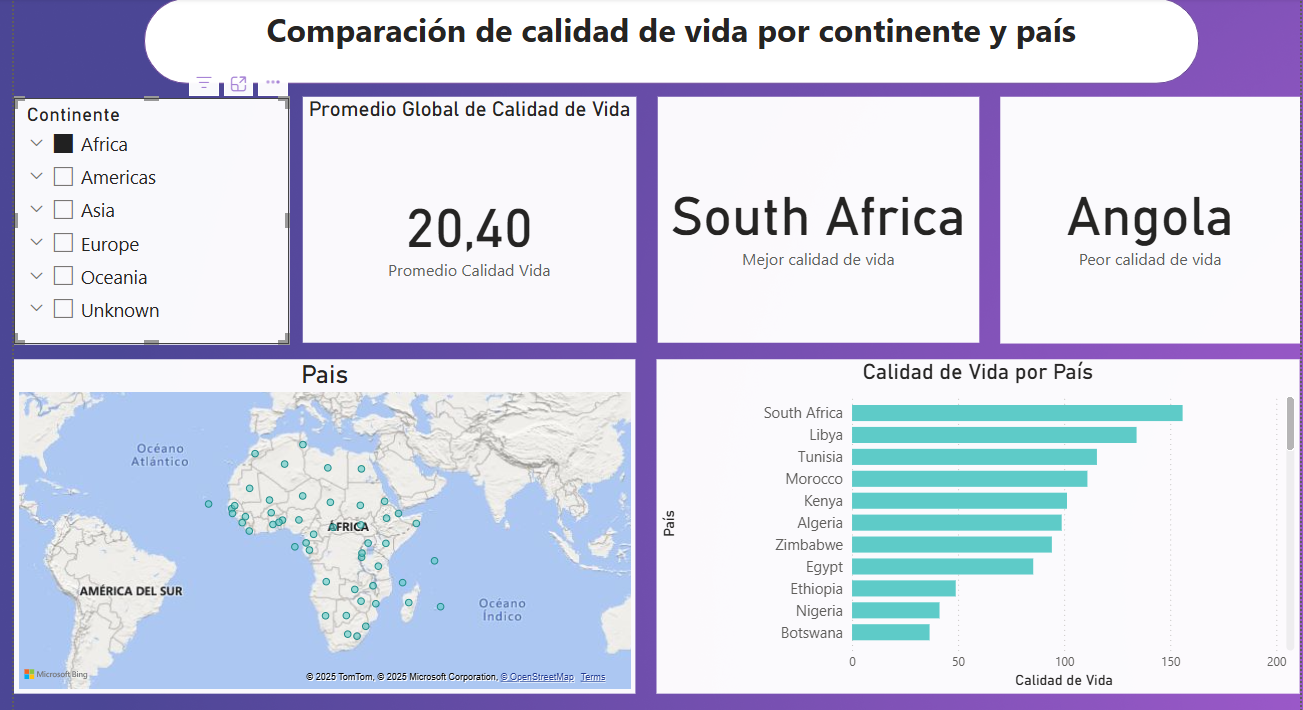

What the dashboard file says about the page in this screenshot:
{"tool":"powerbi","page":{"name":"Página 1","canvas":[1280,720],"ordinal":0},"visuals":[{"type":"shape","box":[129.5,0,1050.1,85.4],"z":0},{"type":"slicer","fields":{"Values":["qualitylife.Continente","qualitylife.country"]},"box":[0,99.2,274.2,245.3],"z":1000},{"type":"map","fields":{"Category":["qualitylife.country"]},"box":[0,360,618.6,332.9],"z":2000},{"type":"textbox","box":[172.3,5.5,964.7,74.4],"z":3000},{"type":"card","title":"Promedio Global de Calidad de Vida","fields":{"Values":["qualitylife.Promedio Calidad Vida"]},"box":[287.8,98.4,331.8,245.2],"z":4000},{"type":"barChart","fields":{"Category":["qualitylife.country"],"Y":["Sum(qualitylife.Quality of Life Value)"]},"box":[640,360,640,332.9],"z":5000},{"type":"card","fields":{"Values":["qualitylife.Mejor Pais"]},"box":[640.1,98.4,320.1,245.2],"z":6000},{"type":"card","fields":{"Values":["qualitylife.Peor_Pais"]},"box":[981.4,98.6,298.6,245.7],"z":7000}]}

Visuals, with their boxes in screenshot pixels (x1, y1, x2, y2):
shape: (x1=141, y1=0, x2=1198, y2=79)
slicer - qualitylife.Continente x qualitylife.country: (x1=10, y1=93, x2=286, y2=340)
map - qualitylife.country: (x1=10, y1=356, x2=633, y2=691)
textbox: (x1=184, y1=0, x2=1155, y2=74)
"Promedio Global de Calidad de Vida" card: (x1=300, y1=92, x2=634, y2=339)
barChart - qualitylife.country x Sum(qualitylife.Quality of Life Value): (x1=655, y1=356, x2=1299, y2=691)
card - qualitylife.Mejor Pais: (x1=655, y1=92, x2=977, y2=339)
card - qualitylife.Peor_Pais: (x1=999, y1=93, x2=1299, y2=340)
